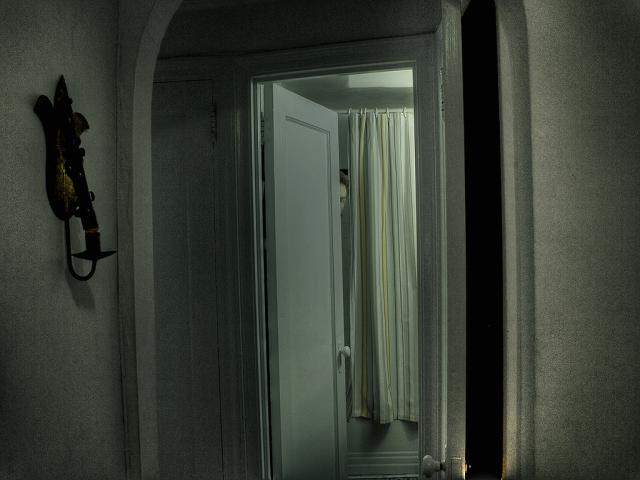Door-handle: (422, 454, 446, 478), (337, 338, 351, 372)
